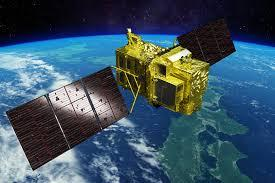body: (113, 25, 211, 118)
solar: (4, 64, 132, 173), (174, 14, 238, 66)
